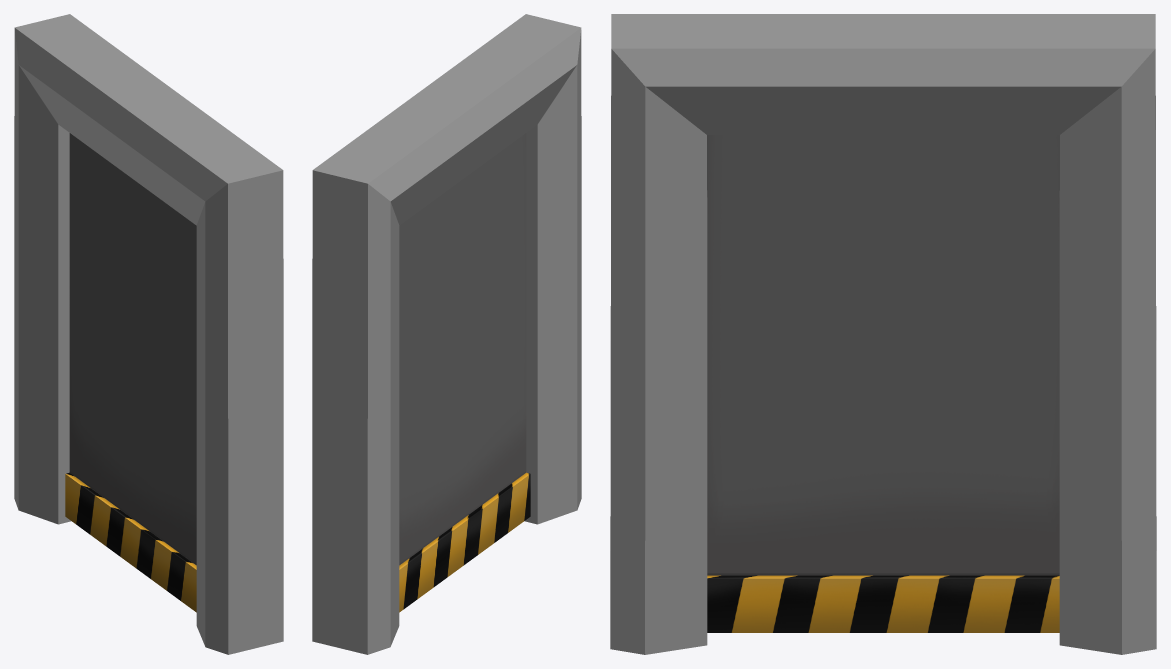
File: Small_Door.fbx
3 views of the same model, side by side, from view 1: azimuth 30°, elevation 25°; view 2: azimuth 150°, elevation 25°; view 3: azimuth 270°, elevation 25° (orthographic). The views are drawn at different scales.
Parts seen in each view (by area): view 1: polySurface4, polySurface5; view 2: polySurface4, polySurface5; view 3: polySurface5, polySurface4.
Part boxes in pixels (x1,y1,x2,y2): polySurface4: (14, 14, 283, 654); polySurface5: (65, 133, 196, 612); polySurface4: (312, 14, 581, 654); polySurface5: (399, 133, 530, 612); polySurface5: (707, 135, 1059, 632); polySurface4: (610, 14, 1156, 654).
Size of the model in its own units: 3.84 by 23.38 by 19.27.
1 material, 1 textured.
